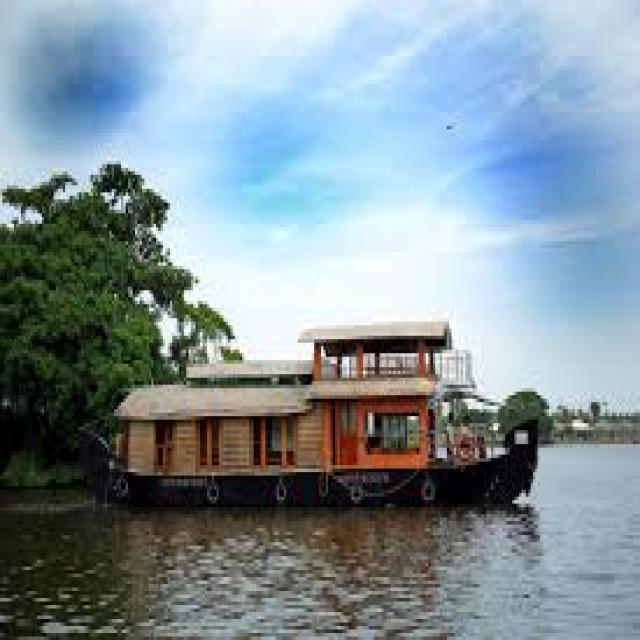fishing boat: (85, 318, 540, 516)
